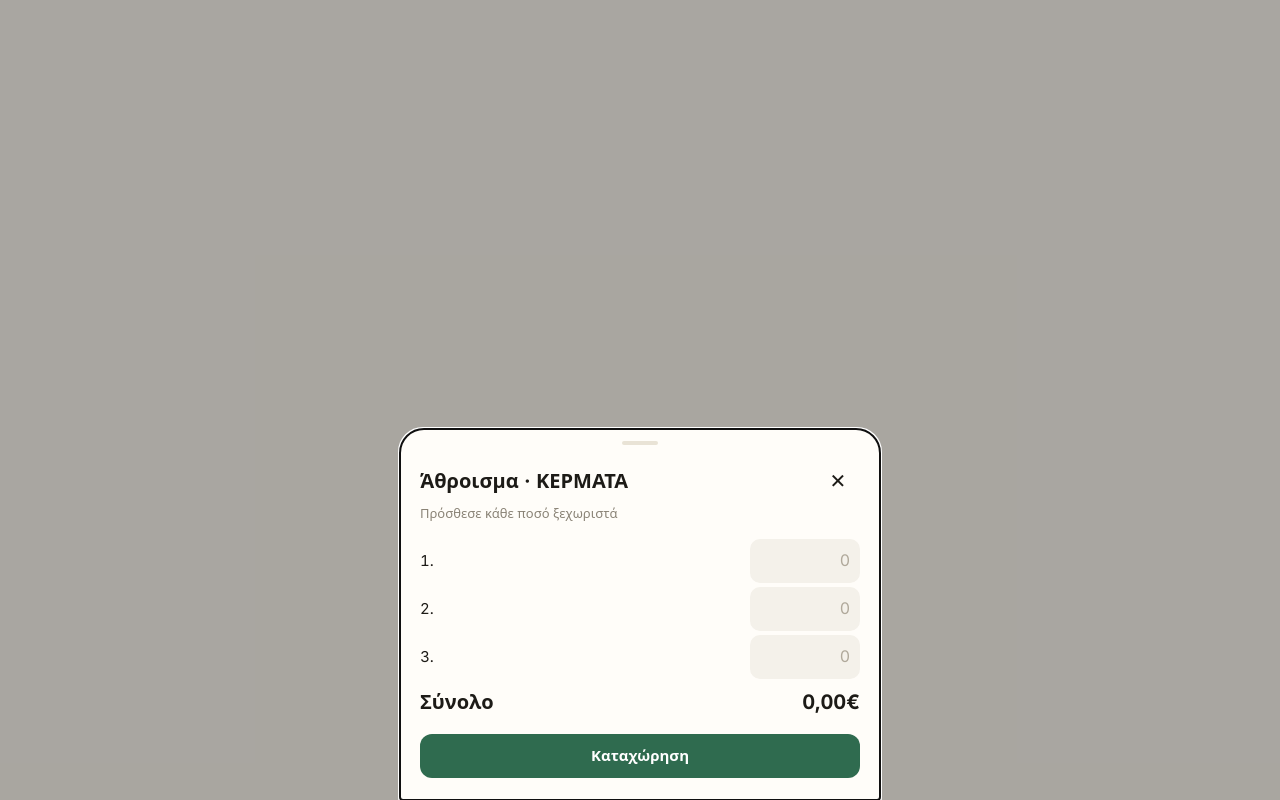
Scenario: CoinCalcSheet › blocks applying while a row is invalid
In the field named "Ποσό 1": (805, 561) [750, 539, 860, 583], type "1.234"
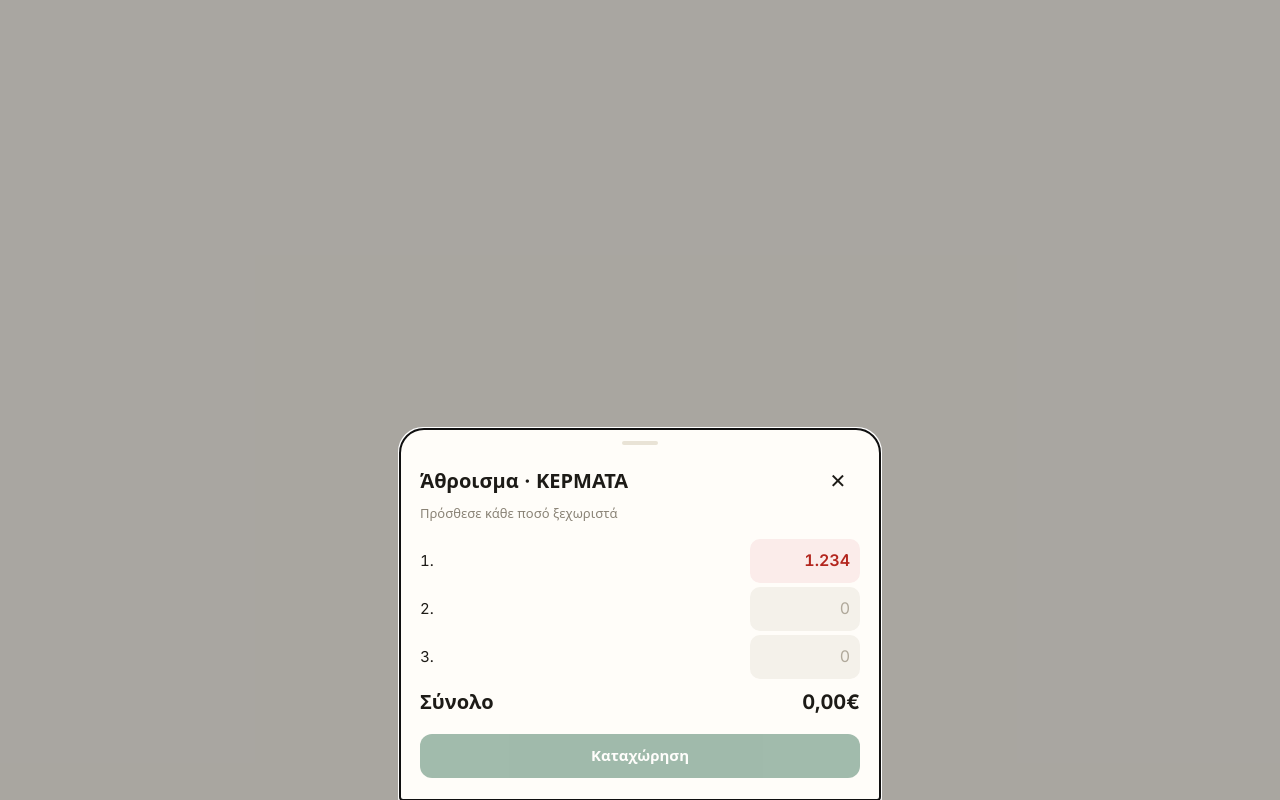
Now the button "Καταχώρηση" is disabled, box [420, 734, 860, 778]
